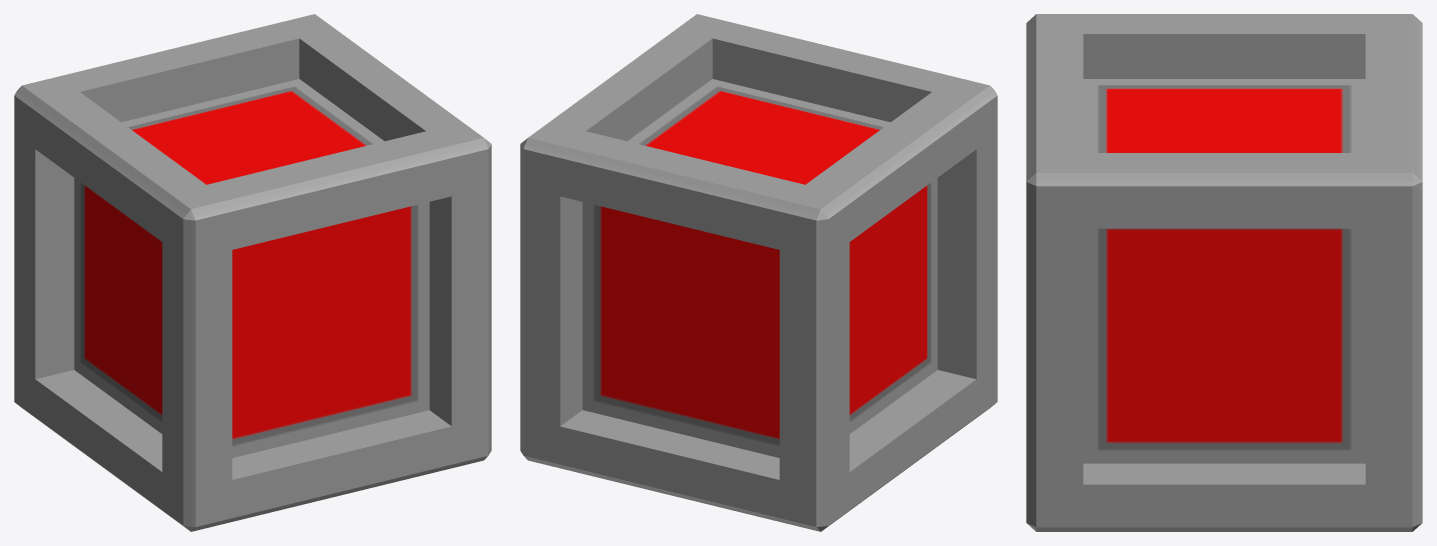
Rendered from unity_cube.fbx.
The picture shows the model from 3 angles, left to right: view 1: azimuth 30°, elevation 25°; view 2: azimuth 150°, elevation 25°; view 3: azimuth 270°, elevation 25°; orthographic projection. The views are drawn at different scales.
Parts seen in each view (by area): view 1: Unity_Cube; view 2: Unity_Cube; view 3: Unity_Cube.
Part boxes in pixels (box(x1,y1,x2,y2)): Unity_Cube: box(14, 14, 491, 531); Unity_Cube: box(520, 14, 997, 531); Unity_Cube: box(1026, 14, 1422, 531).
Bounding box in the file's own units: 1 × 1 × 1.
